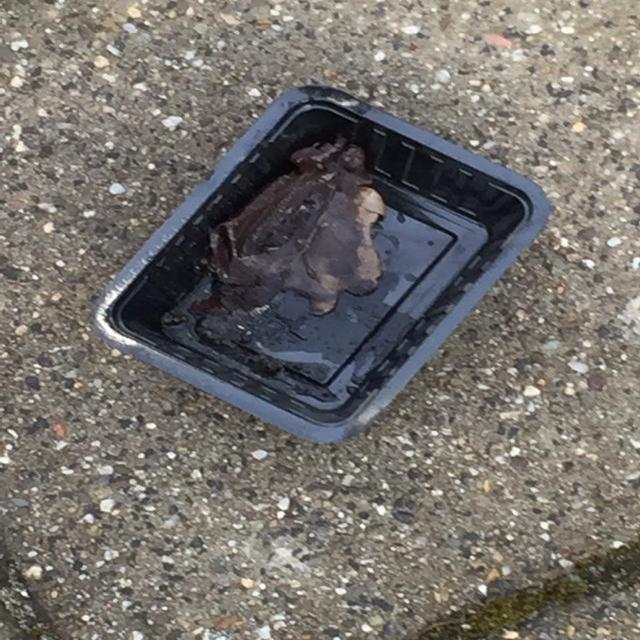Plastic: (82, 82, 552, 450)
